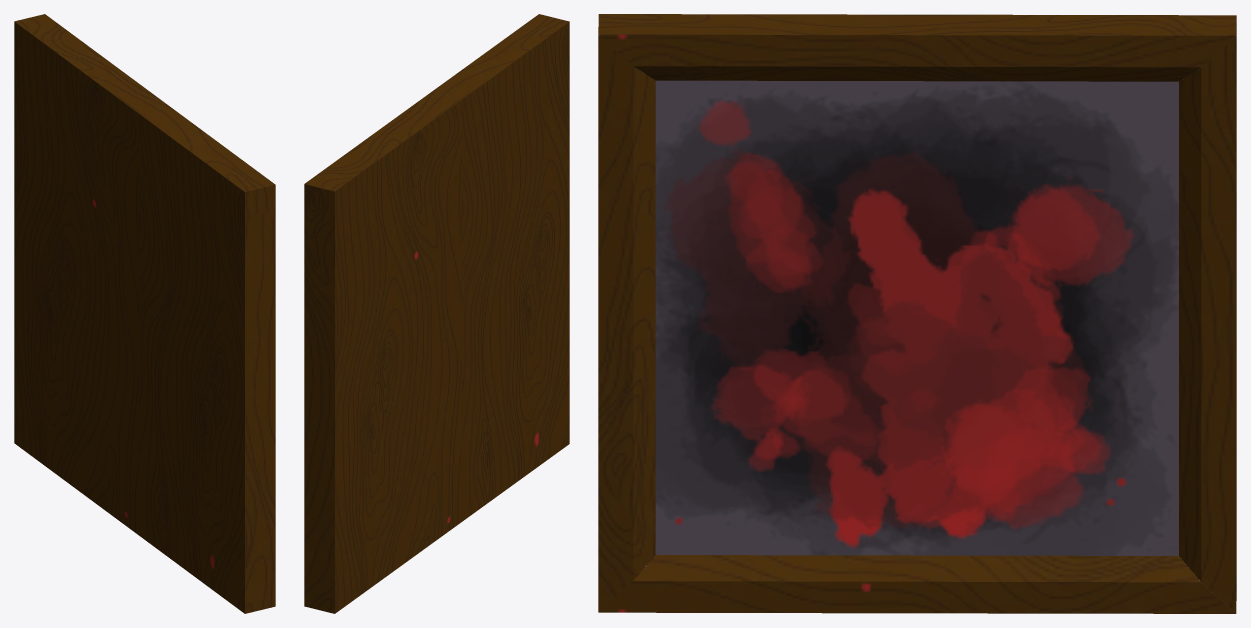
Rendered from Picture_V2.fbx.
The picture shows the model from 3 angles, left to right: view 1: azimuth 30°, elevation 25°; view 2: azimuth 150°, elevation 25°; view 3: azimuth 270°, elevation 25°; orthographic projection. The views are drawn at different scales.
Visible parts, largest first — view 1: Picture_V2; view 2: Picture_V2; view 3: Picture_V2.
Part boxes in pixels (x1,y1,x2,y2): Picture_V2: [14, 14, 275, 613]; Picture_V2: [304, 14, 569, 613]; Picture_V2: [598, 14, 1236, 613].
Bounding box in the file's own units: 3.47 × 42.89 × 42.9.
